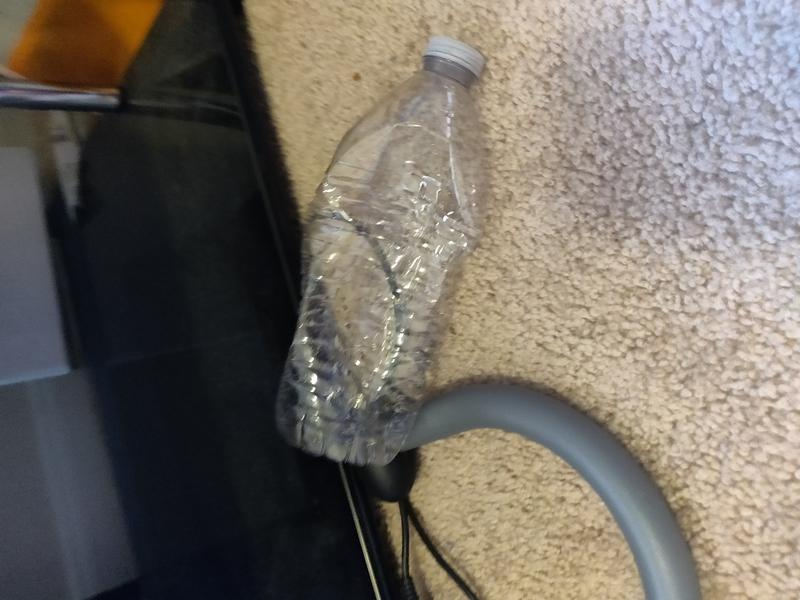bottle: (273, 36, 489, 469)
